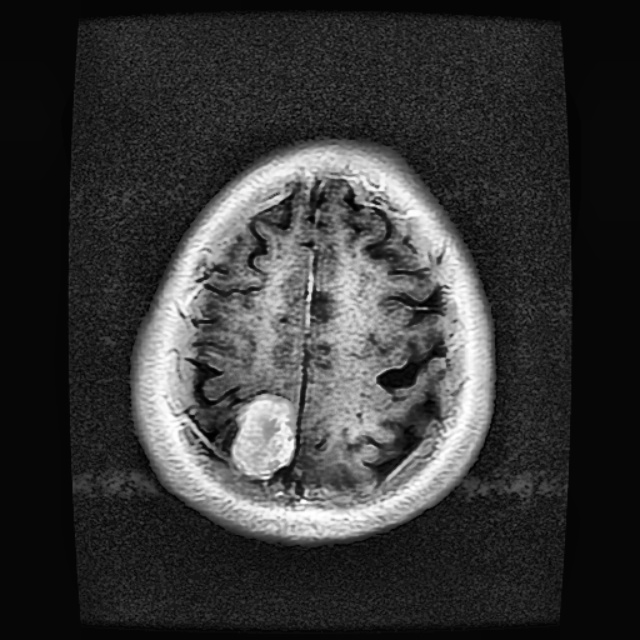Pituitary: (228, 394, 294, 479)
